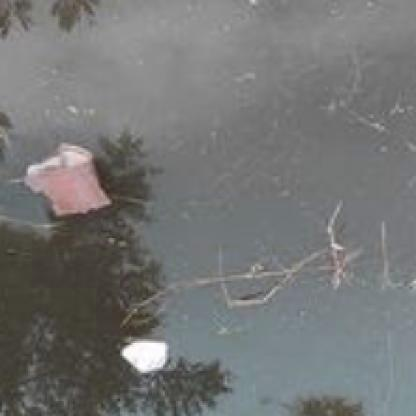Trash: (24, 142, 112, 227), (114, 334, 174, 382)
